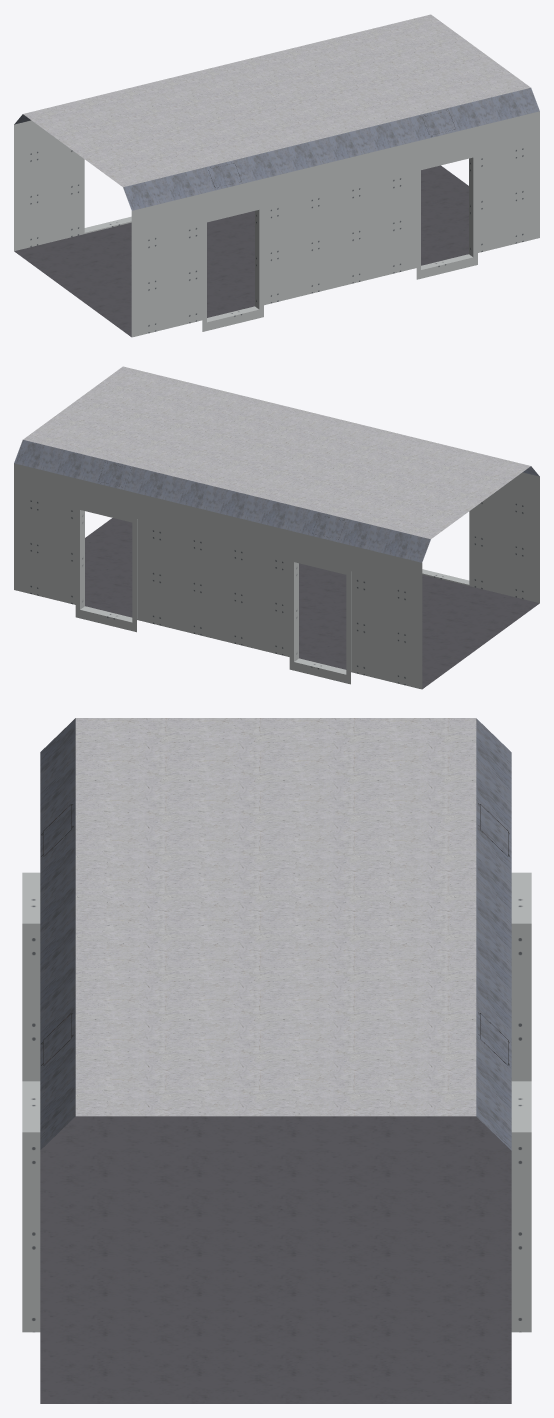
Rendered from starship_section_cells.FBX.
The picture shows the model from 3 angles, top to bottom: view 1: azimuth 30°, elevation 25°; view 2: azimuth 150°, elevation 25°; view 3: azimuth 270°, elevation 25°; orthographic projection. The views are drawn at different scales.
Visible parts, largest first — view 1: TonnelWithCells; view 2: TonnelWithCells; view 3: TonnelWithCells.
Boxes of the visible parts, x1,y1,x2,y2 form: TonnelWithCells: (14,14,539,337); TonnelWithCells: (14,366,539,689); TonnelWithCells: (22,718,531,1403).
Bounding box in the file's own units: 4.87 × 1.72 × 2.63.
